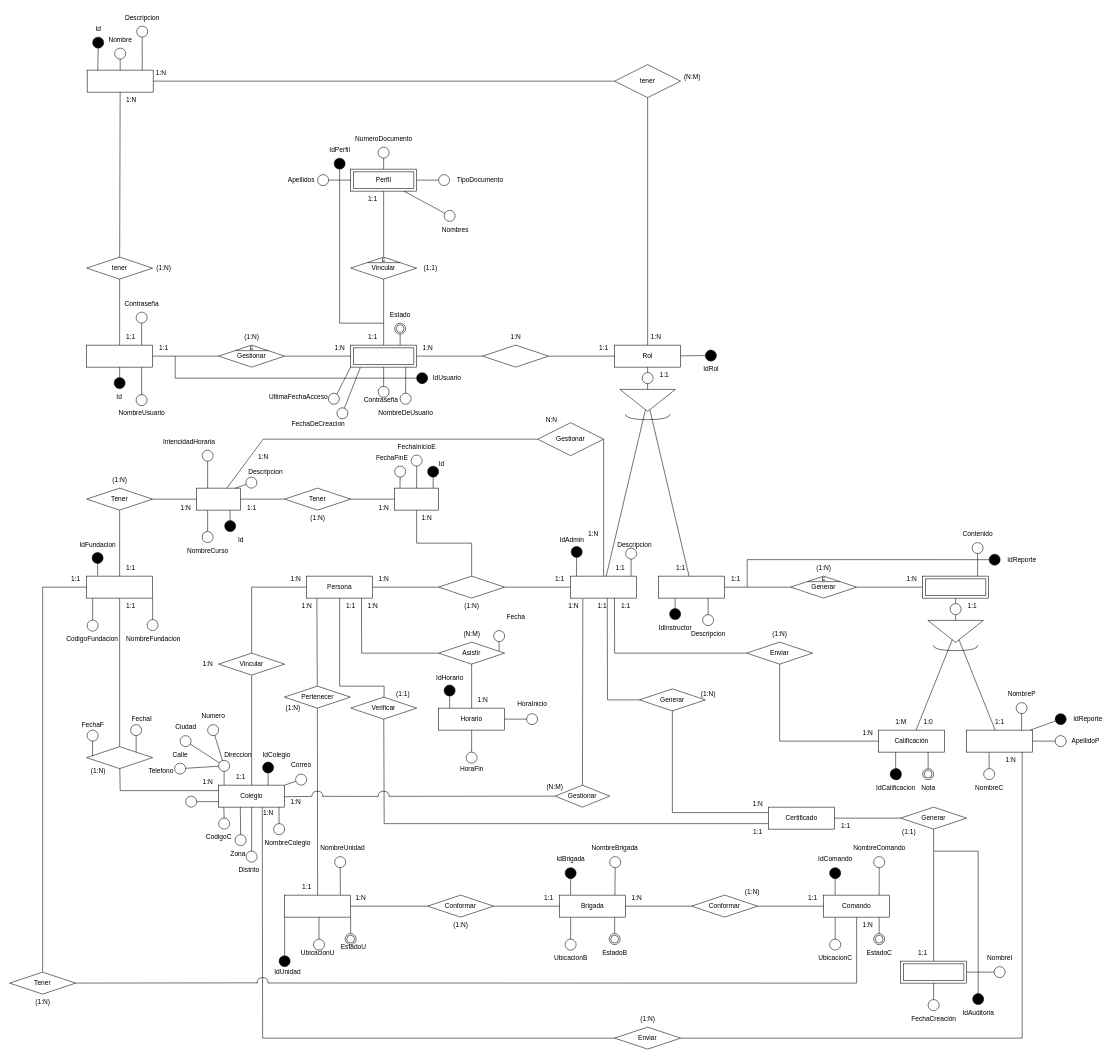
The diagram is 1119 pixels wide and 1059 high, and some of its shapes have lost their labels. Here are the shapes that lost their labels. From the top down, the centre of each, then its label:
At pixel 120 81: "Funciones".
At pixel 119 356: "SuperAdministrador".
At pixel 383 356: "Usuario".
At pixel 515 356: "Asignar".
At pixel 218 499: "Curso".
At pixel 416 499: "Edición".
At pixel 119 587: "Fundacion".
At pixel 471 587: "Suscribir".
At pixel 603 587: "Administrador".
At pixel 691 587: "Instructor".
At pixel 955 587: "Reporte".
At pixel 119 757: "Relacionar".
At pixel 999 741: "Inasistencia".
At pixel 317 906: "Unidad".
At pixel 933 972: "Auditoria".
